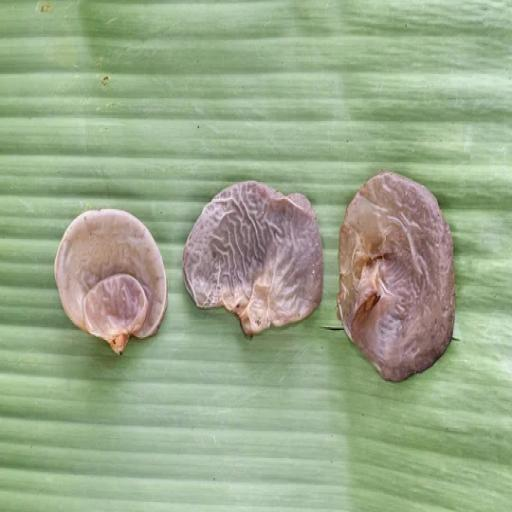mushroom: (337, 171, 458, 383), (180, 173, 328, 340), (51, 202, 169, 355)
